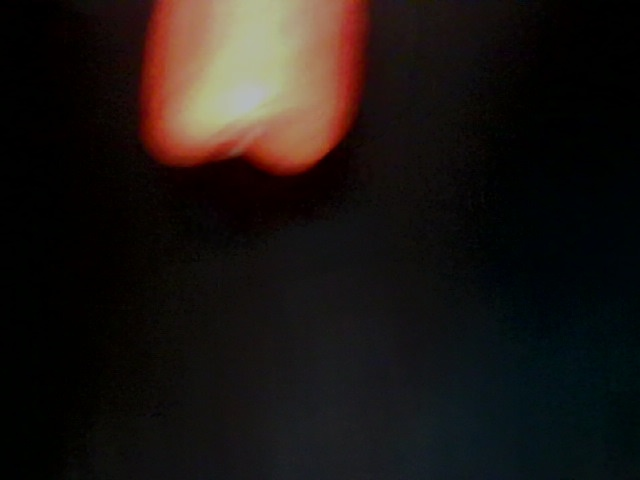YHLJ: (499, 63, 605, 126)
